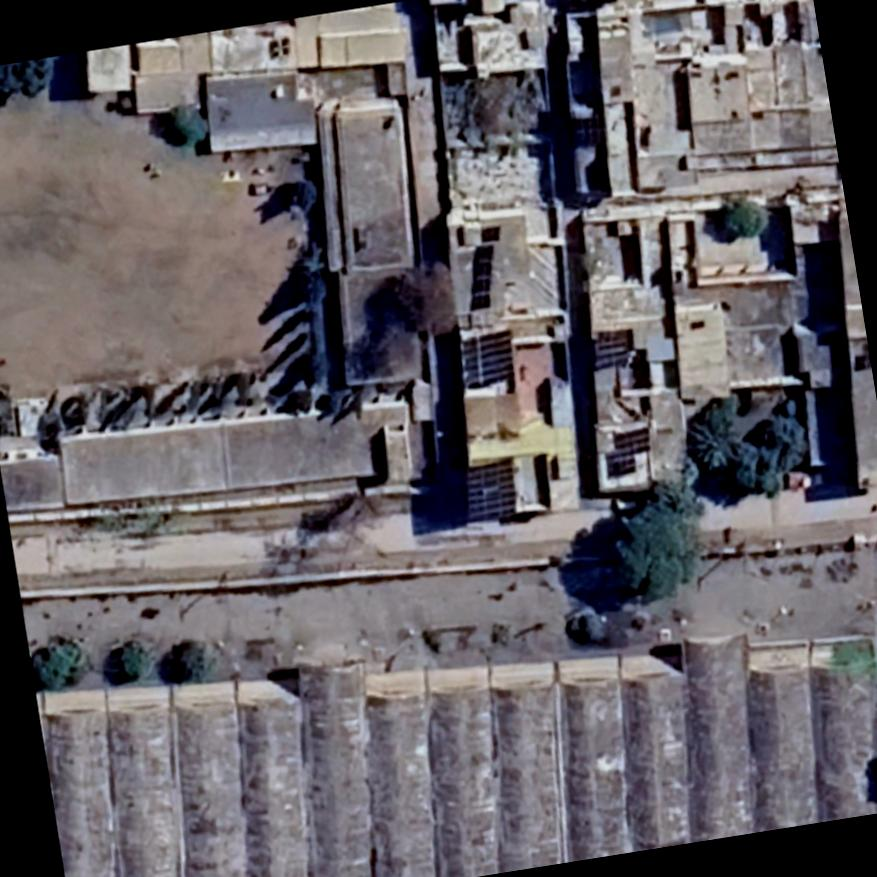Solarpanel: (453, 450, 527, 531), (450, 230, 511, 317), (451, 324, 521, 396), (596, 420, 660, 482), (583, 323, 637, 374)
